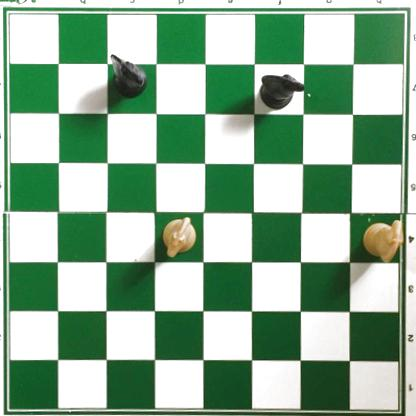black-knight: (258, 72, 307, 111), (106, 54, 148, 99)
white-knight: (359, 218, 404, 266), (159, 215, 197, 258)
